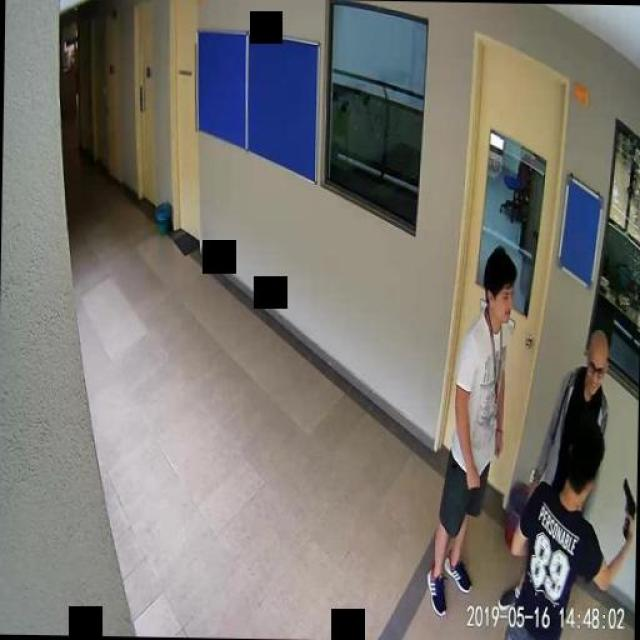gun: (620, 478, 635, 538)
